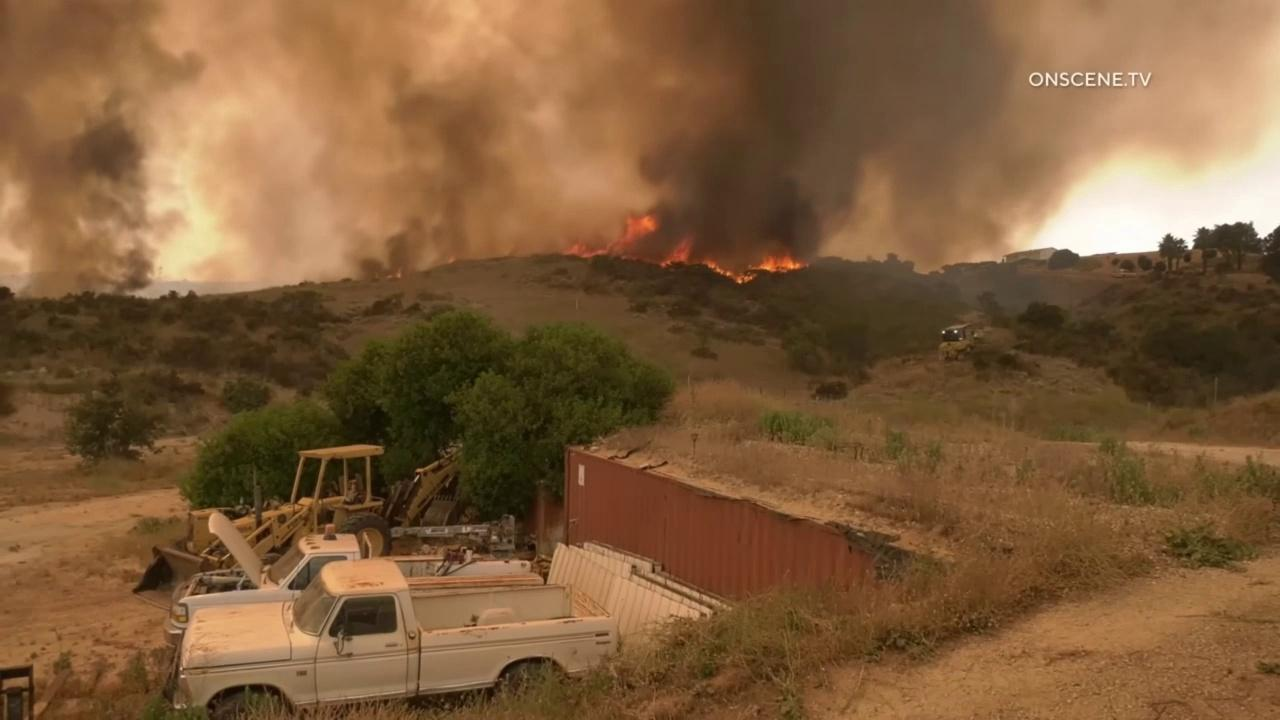fire: (555, 210, 811, 287), (396, 267, 403, 279), (448, 255, 456, 265)
smoke: (0, 0, 1280, 297)
